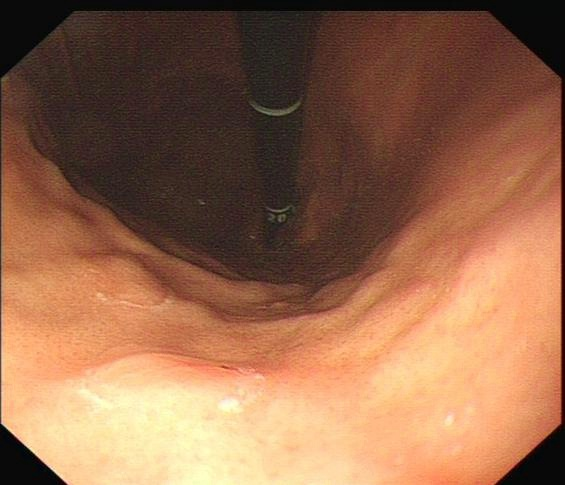Polyp: (81, 349, 264, 410)
